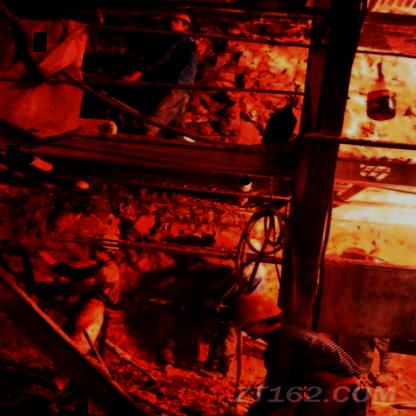helmet: (231, 286, 285, 342), (84, 232, 122, 260), (157, 12, 197, 36)
